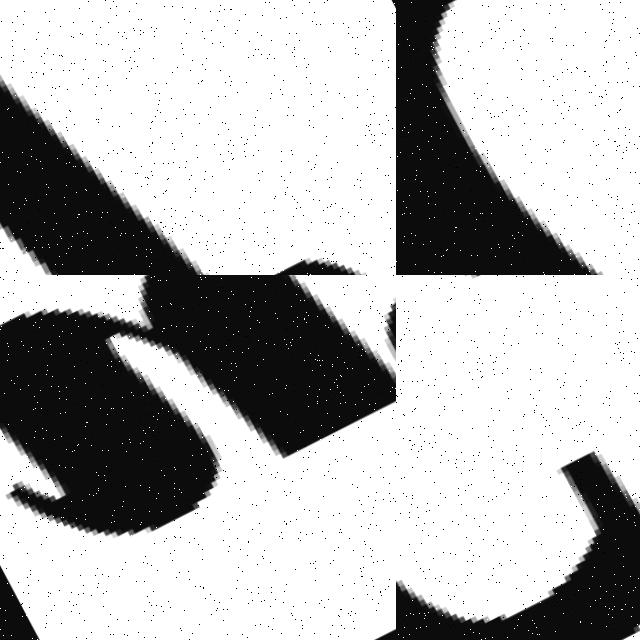C: (396, 0, 603, 275), (396, 448, 640, 640)
R: (0, 0, 396, 275)
W: (0, 275, 396, 581)
